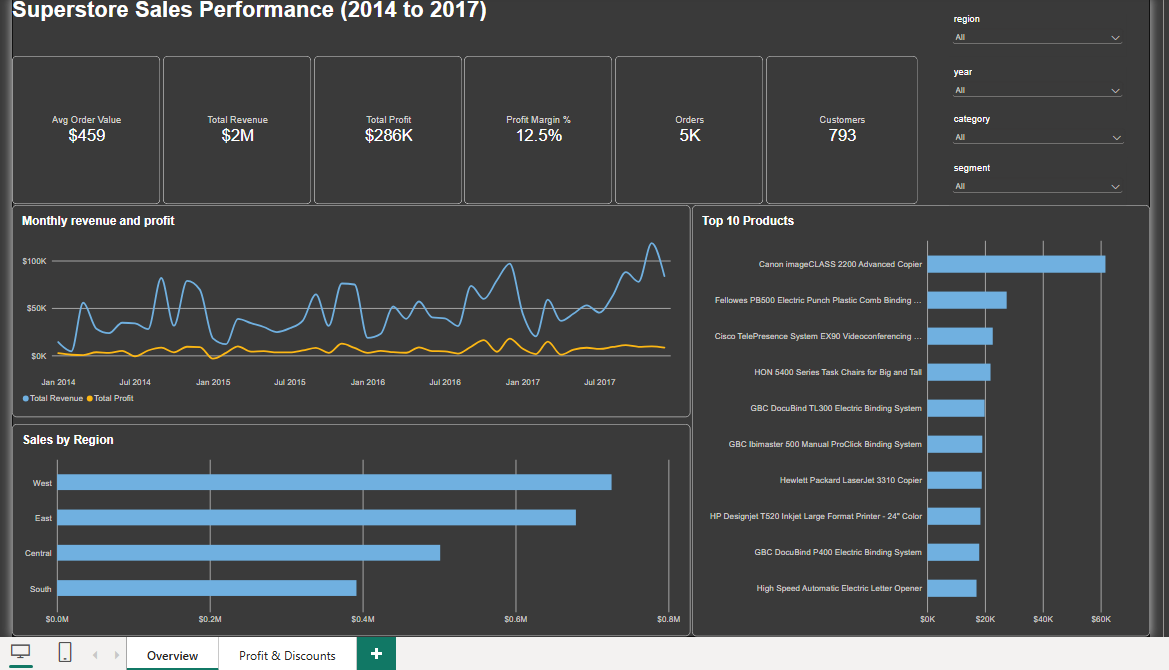

This screenshot's page, from the dashboard's own definition file:
{"tool":"powerbi","page":{"name":"Overview","canvas":[1920,1080],"ordinal":0},"visuals":[{"type":"textbox","box":[0,0,993,63.9],"z":0},{"type":"cardVisual","fields":{"Data":["_Measures.Total Revenue"]},"box":[254.4,98.9,250,250],"z":1000},{"type":"cardVisual","fields":{"Data":["_Measures.Total Profit"]},"box":[508.9,98.9,250,250],"z":2000},{"type":"cardVisual","fields":{"Data":["_Measures.Customers"]},"box":[1272.1,98.9,256.4,250.6],"z":3000},{"type":"cardVisual","fields":{"Data":["_Measures.Profit Margin %"]},"box":[763.3,98.9,250,250],"z":4000},{"type":"cardVisual","fields":{"Data":["_Measures.Orders"]},"box":[1017.7,98.9,250,250],"z":5000},{"type":"cardVisual","fields":{"Data":["_Measures.Avg Order Value"]},"box":[0,98.9,250,250],"z":6000},{"type":"clusteredBarChart","title":"Sales by Region","fields":{"Category":["dim_location.region"],"Y":["_Measures.Total Revenue"]},"box":[0,720.9,1144.9,358.1],"z":7000},{"type":"clusteredBarChart","title":"Top 10 Products","fields":{"Category":["dim_product.product_name"],"Y":["_Measures.Total Revenue"]},"box":[1147.3,351,772.7,728],"z":8000},{"type":"slicer","fields":{"Values":["dim_product.category"]},"box":[1580.8,197.9,301.5,73],"z":9000},{"type":"slicer","fields":{"Values":["dim_date.year"]},"box":[1580.8,117.8,299.2,73],"z":10000},{"type":"slicer","fields":{"Values":["dim_customer.segment"]},"box":[1580.8,280.3,299.2,70.7],"z":11000},{"type":"slicer","fields":{"Values":["dim_location.region"]},"box":[1580.8,28.3,299.2,70.7],"z":12000},{"type":"lineChart","title":"Monthly revenue and profit","fields":{"Category":["dim_date.year_month"],"Y":["_Measures.Total Revenue","_Measures.Total Profit"]},"box":[0,351,1144.9,358.1],"z":13000}]}

Visuals, with their boxes on the page's 1920x1080 design canvas (x1, y1, x2, y2). These are canvas units, not pixel positions in the 1169x670 screenshot, which may show the page scaled, cropped or inside an application window:
textbox: 0, 0, 993, 64
cardVisual - _Measures.Total Revenue: 254, 99, 504, 349
cardVisual - _Measures.Total Profit: 509, 99, 759, 349
cardVisual - _Measures.Customers: 1272, 99, 1528, 350
cardVisual - _Measures.Profit Margin %: 763, 99, 1013, 349
cardVisual - _Measures.Orders: 1018, 99, 1268, 349
cardVisual - _Measures.Avg Order Value: 0, 99, 250, 349
"Sales by Region" clusteredBarChart: 0, 721, 1145, 1079
"Top 10 Products" clusteredBarChart: 1147, 351, 1920, 1079
slicer - dim_product.category: 1581, 198, 1882, 271
slicer - dim_date.year: 1581, 118, 1880, 191
slicer - dim_customer.segment: 1581, 280, 1880, 351
slicer - dim_location.region: 1581, 28, 1880, 99
"Monthly revenue and profit" lineChart: 0, 351, 1145, 709
